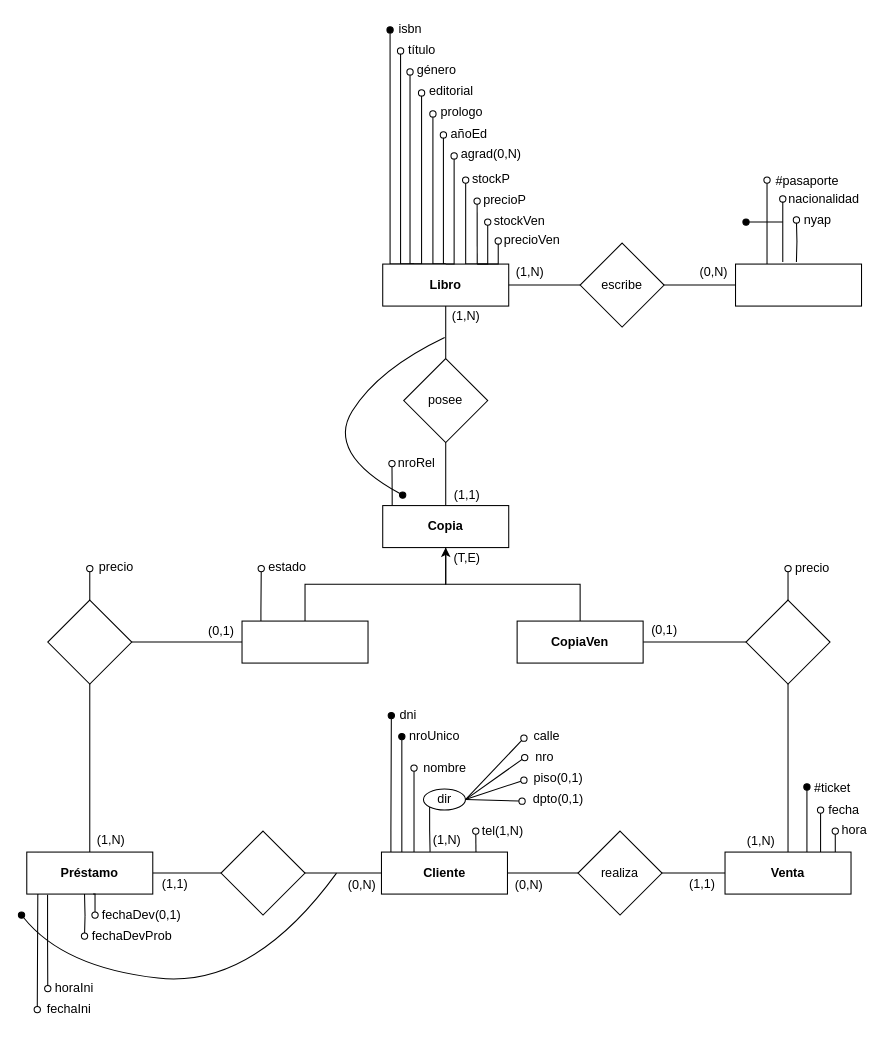
This 894x1037 diagram has some shape labels left out. The shapes that lost their labels are listed below. From the top down, each one's box as (x1, y1, x2, y2) in pixels, then its label:
(734, 263, 862, 306): Autor
(47, 599, 132, 684): presta
(241, 620, 368, 663): CopiaPrest
(745, 599, 830, 684): vende
(220, 830, 305, 915): adquiere
